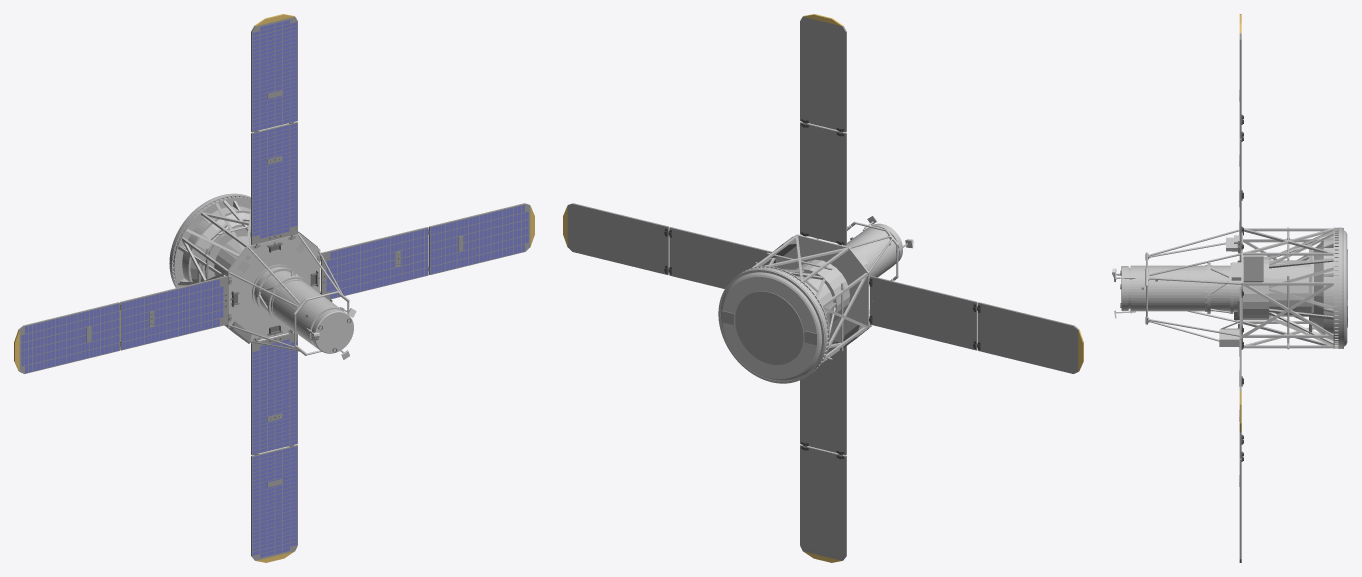
File: HESSI-RHESSI.glb
The picture shows the model from 3 angles, left to right: view 1: azimuth 30°, elevation 25°; view 2: azimuth 150°, elevation 25°; view 3: azimuth 270°, elevation 25°; orthographic projection.
Visible parts, largest first — view 1: <LWODefault>; view 2: <LWODefault>; view 3: <LWODefault>.
Boxes of the visible parts, x1,y1,x2,y2 form: <LWODefault>: [14, 14, 534, 562]; <LWODefault>: [563, 14, 1083, 562]; <LWODefault>: [1112, 14, 1347, 562].
Bounding box in the file's own units: 2948 × 2947 × 1168.
